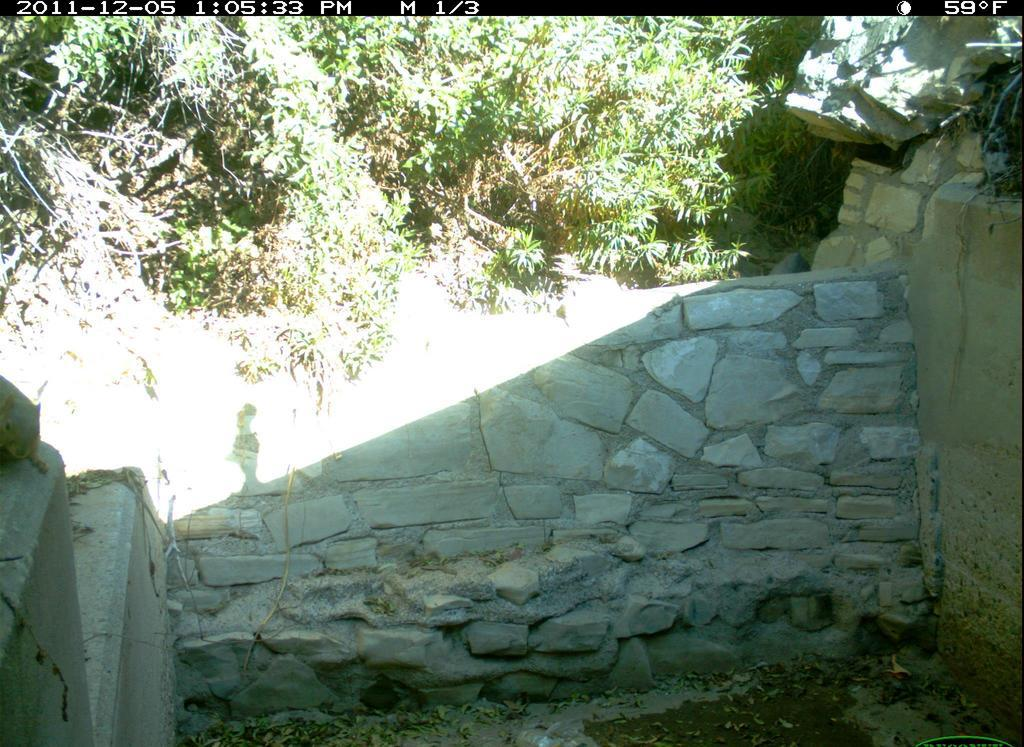squirrel: (1, 356, 65, 483)
